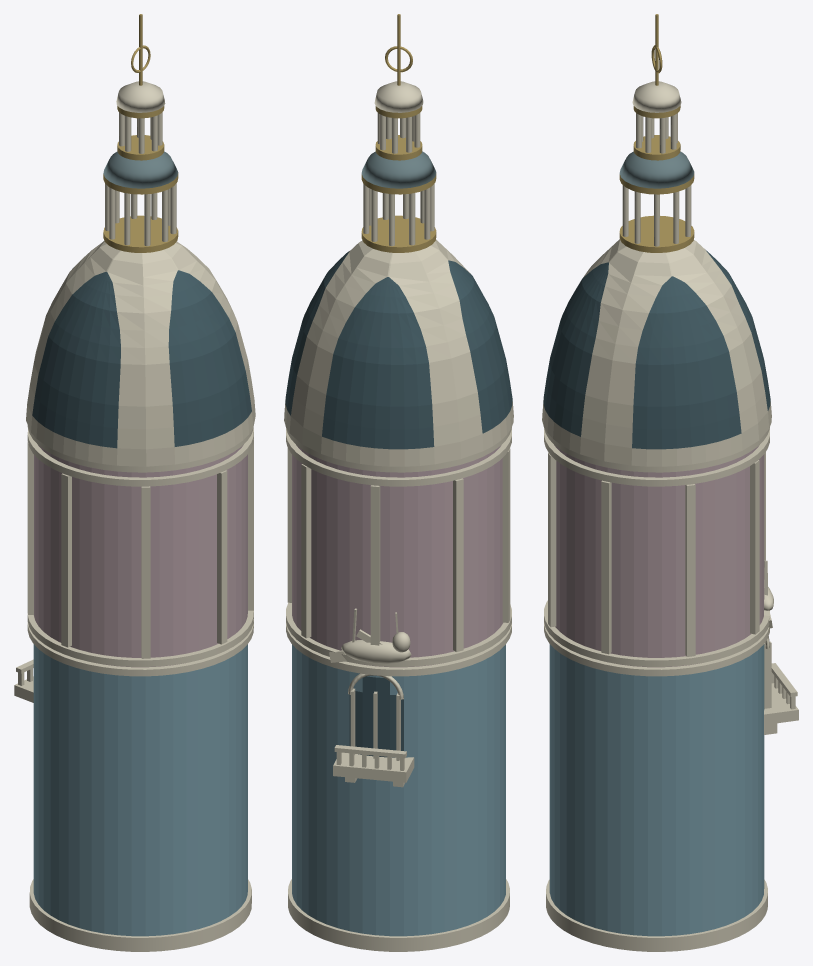
File: tour-lu-nantes-near.glb
The picture shows the model from 3 angles, left to right: view 1: azimuth 30°, elevation 25°; view 2: azimuth 150°, elevation 25°; view 3: azimuth 270°, elevation 25°; orthographic projection.
Visible parts, largest first — view 1: tour-lu-nantes-0-blue, tour-lu-nantes-0-plaster, tour-lu-nantes-0-pink, tour-lu-nantes-0-glass, tour-lu-nantes-0-gold, tour-lu-nantes-0-roof; view 2: tour-lu-nantes-0-plaster, tour-lu-nantes-0-blue, tour-lu-nantes-0-pink, tour-lu-nantes-0-glass, tour-lu-nantes-0-gold, tour-lu-nantes-0-roof; view 3: tour-lu-nantes-0-blue, tour-lu-nantes-0-plaster, tour-lu-nantes-0-pink, tour-lu-nantes-0-glass, tour-lu-nantes-0-gold, tour-lu-nantes-0-roof.
Part boxes in pixels (<box>): tour-lu-nantes-0-blue: <box>33,644,247,936</box>; tour-lu-nantes-0-plaster: <box>14,81,255,951</box>; tour-lu-nantes-0-pink: <box>34,444,247,667</box>; tour-lu-nantes-0-glass: <box>32,267,251,448</box>; tour-lu-nantes-0-gold: <box>103,14,178,252</box>; tour-lu-nantes-0-roof: <box>103,151,178,188</box>; tour-lu-nantes-0-plaster: <box>284,81,513,951</box>; tour-lu-nantes-0-blue: <box>292,644,505,936</box>; tour-lu-nantes-0-pink: <box>292,445,502,667</box>; tour-lu-nantes-0-glass: <box>285,251,512,757</box>; tour-lu-nantes-0-gold: <box>361,14,436,252</box>; tour-lu-nantes-0-roof: <box>361,151,436,188</box>; tour-lu-nantes-0-blue: <box>549,644,764,936</box>; tour-lu-nantes-0-plaster: <box>542,81,798,951</box>; tour-lu-nantes-0-pink: <box>554,445,764,667</box>; tour-lu-nantes-0-glass: <box>543,249,770,449</box>; tour-lu-nantes-0-gold: <box>619,14,694,252</box>; tour-lu-nantes-0-roof: <box>619,151,694,188</box>.
Size of the model in its own units: 8.89 by 38 by 9.94.
